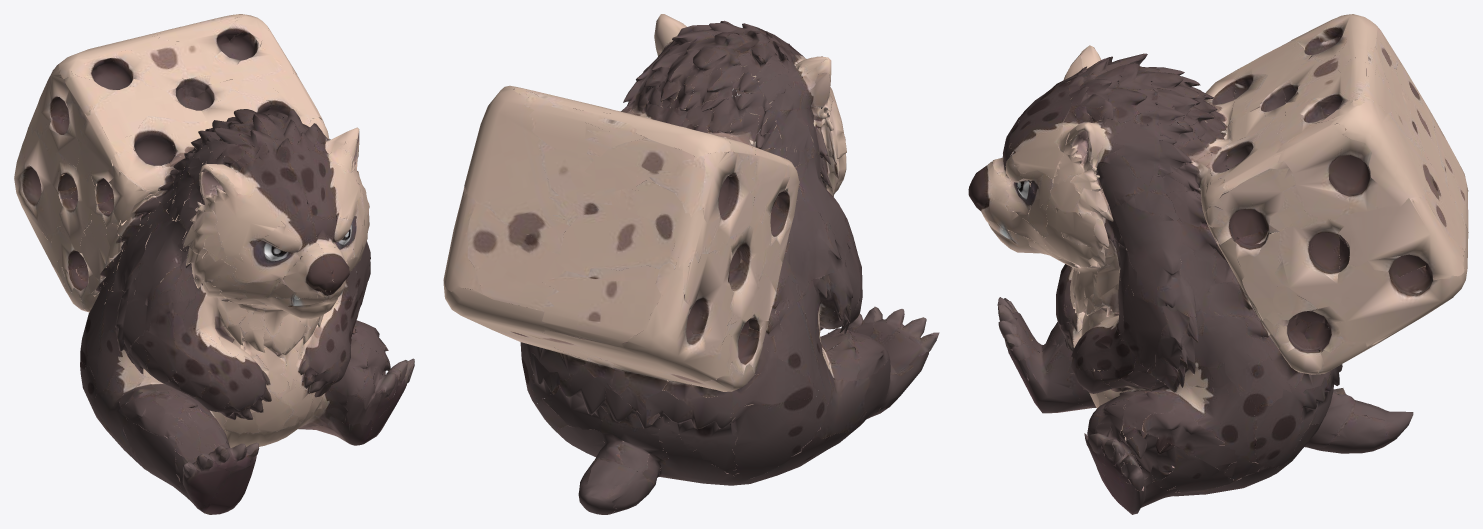
The picture shows the model from 3 angles, left to right: view 1: azimuth 30°, elevation 25°; view 2: azimuth 150°, elevation 25°; view 3: azimuth 270°, elevation 25°; orthographic projection. The views are drawn at different scales.
Visible parts, largest first — view 1: Mesh_0; view 2: Mesh_0; view 3: Mesh_0.
Part boxes in pixels (<box>): Mesh_0: <box>14,14,414,514</box>; Mesh_0: <box>443,14,939,514</box>; Mesh_0: <box>968,14,1468,514</box>.
Bounding box in the file's own units: 1.39 × 1.66 × 1.9.
1 material, 1 textured.
